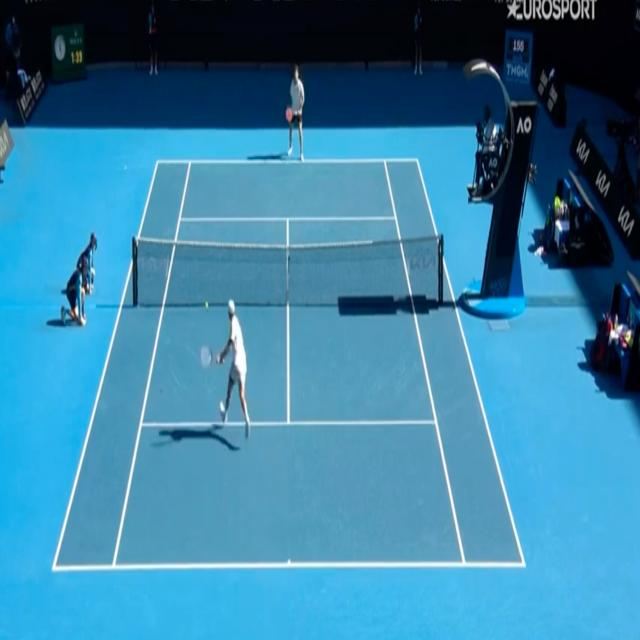ball: (205, 301, 209, 311)
